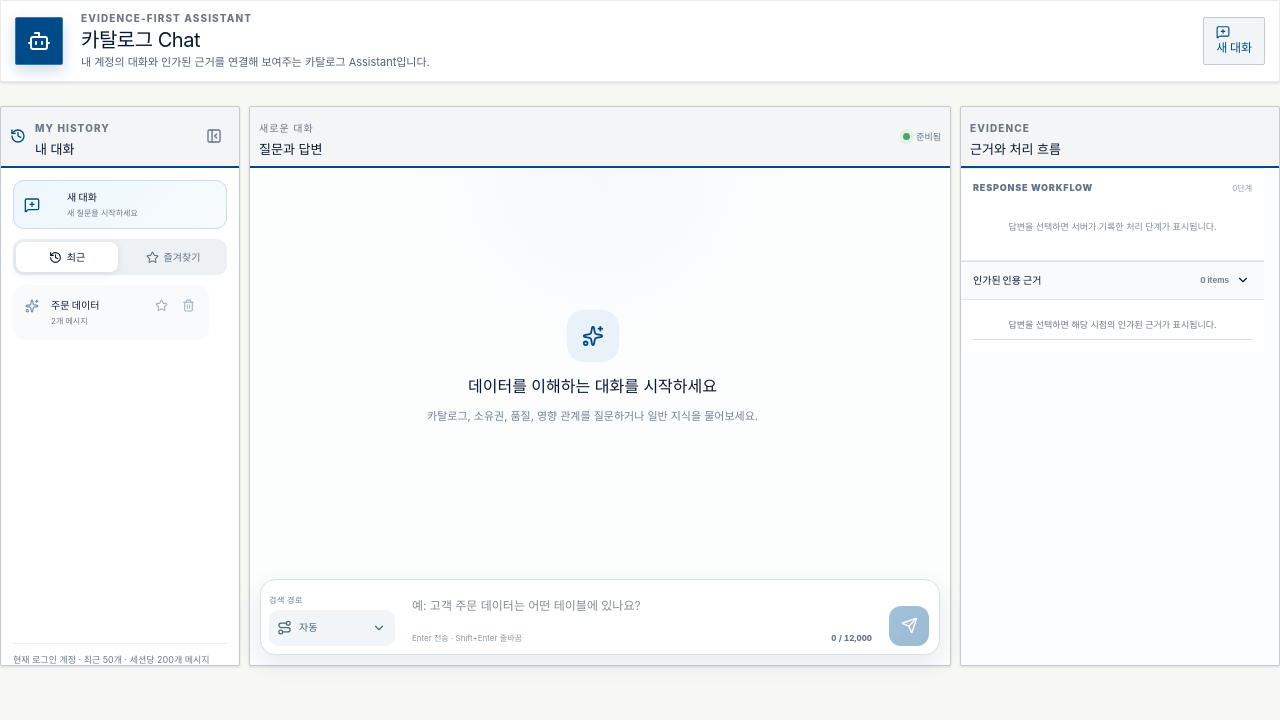
Scenario: ChatPage › describes General as retrieval-free and Graph as an authorized Knowledge or lineage route
expect the text "주문 데이터" is shown: met, box [51,299,99,311]
Click the button with aria-label "검색 경로" at {"x": 332, "y": 628}, box [269,610,395,646]
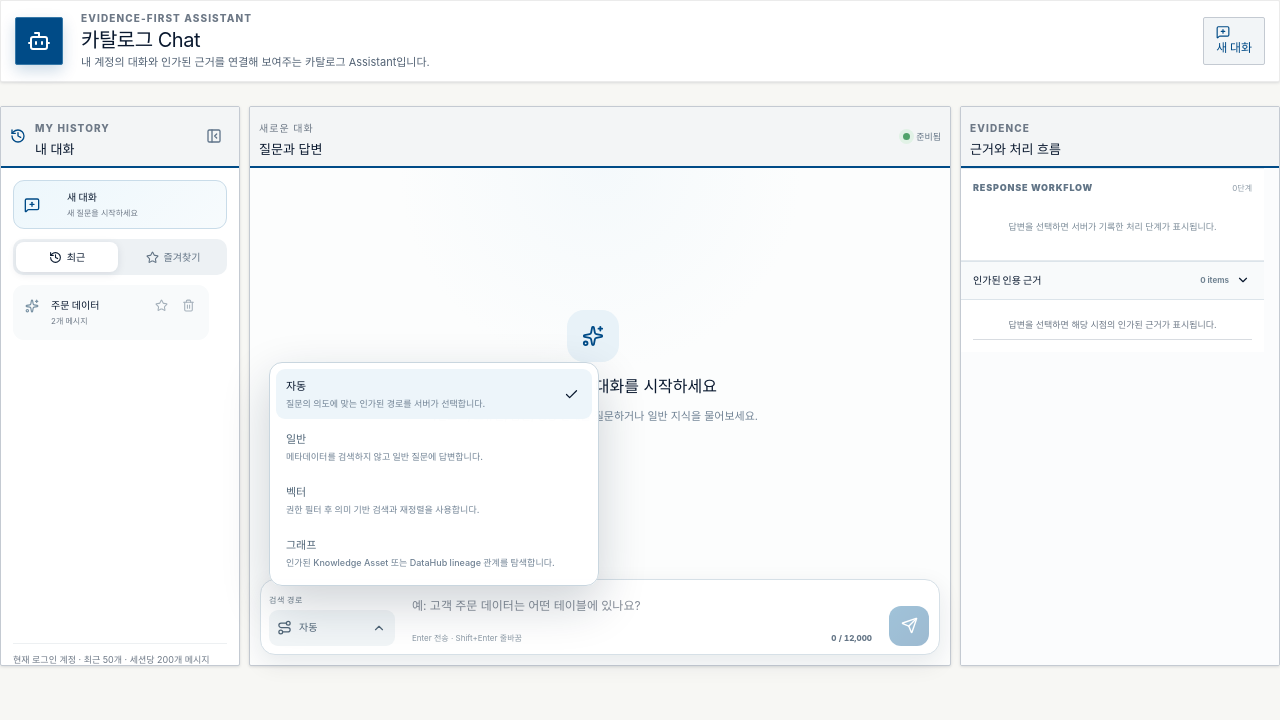
expect the text "메타데이터를 검색하지 않고 일반 질문에 답변합니다." is shown: met, box [286,451,483,462]
expect the text "인가된 Knowledge Asset 또는 DataHub lineage 관계를 탐색합니다." is shown: met, box [286,557,556,570]
